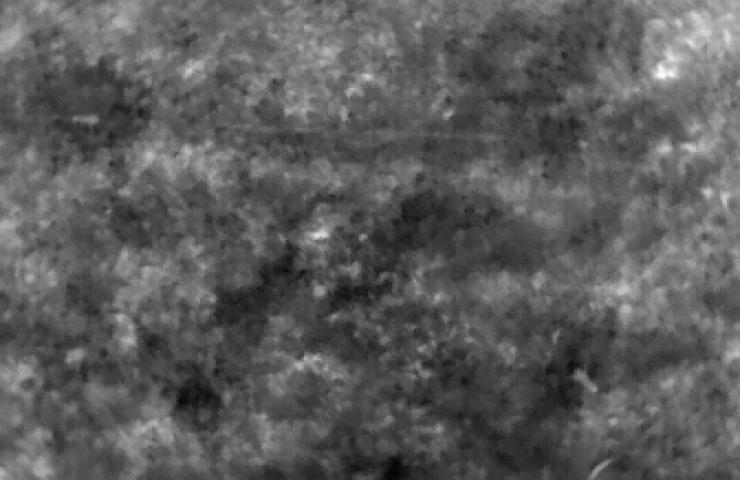landmines: (309, 226, 337, 249)
